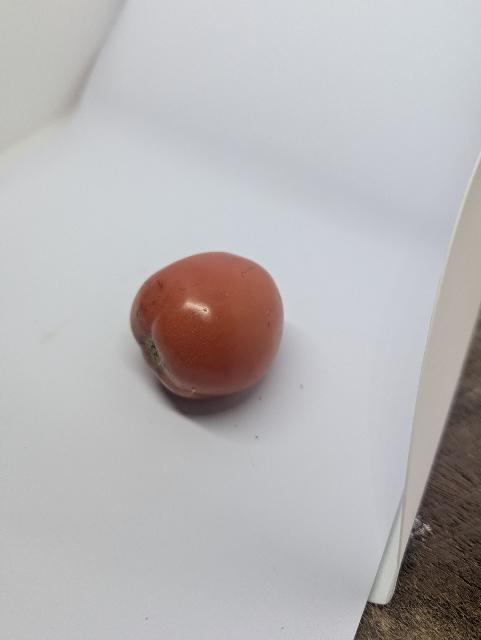red: (125, 242, 290, 413)
